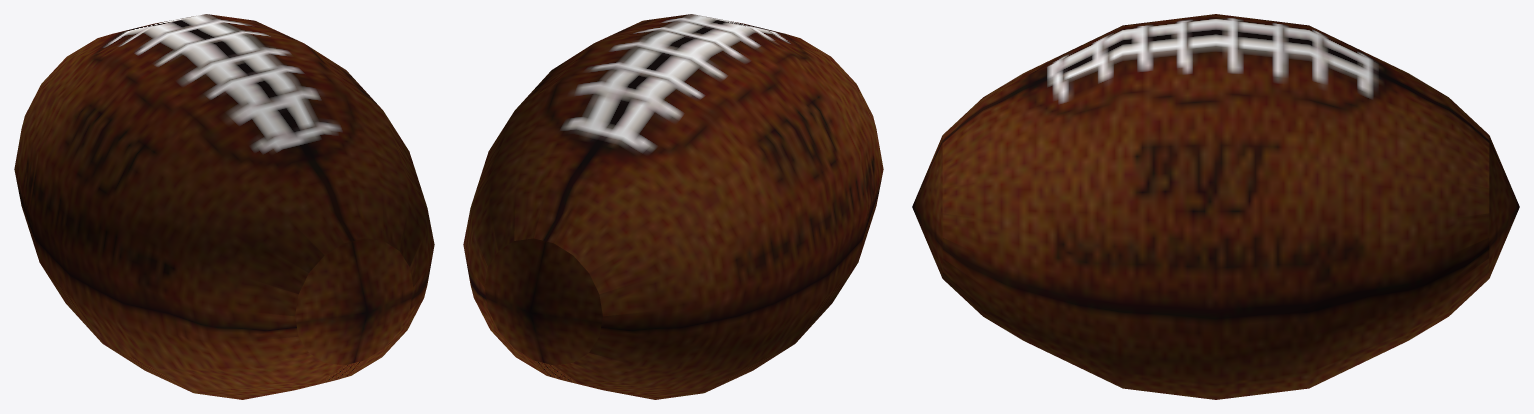
Rendered from view.ico.obj.
3 renders of one model, left to right at view 1: azimuth 30°, elevation 25°; view 2: azimuth 150°, elevation 25°; view 3: azimuth 270°, elevation 25°, orthographic. The views are drawn at different scales.
Bounding box in the file's own units: 2.71 × 2.66 × 4.24.
1 material, 1 textured.
